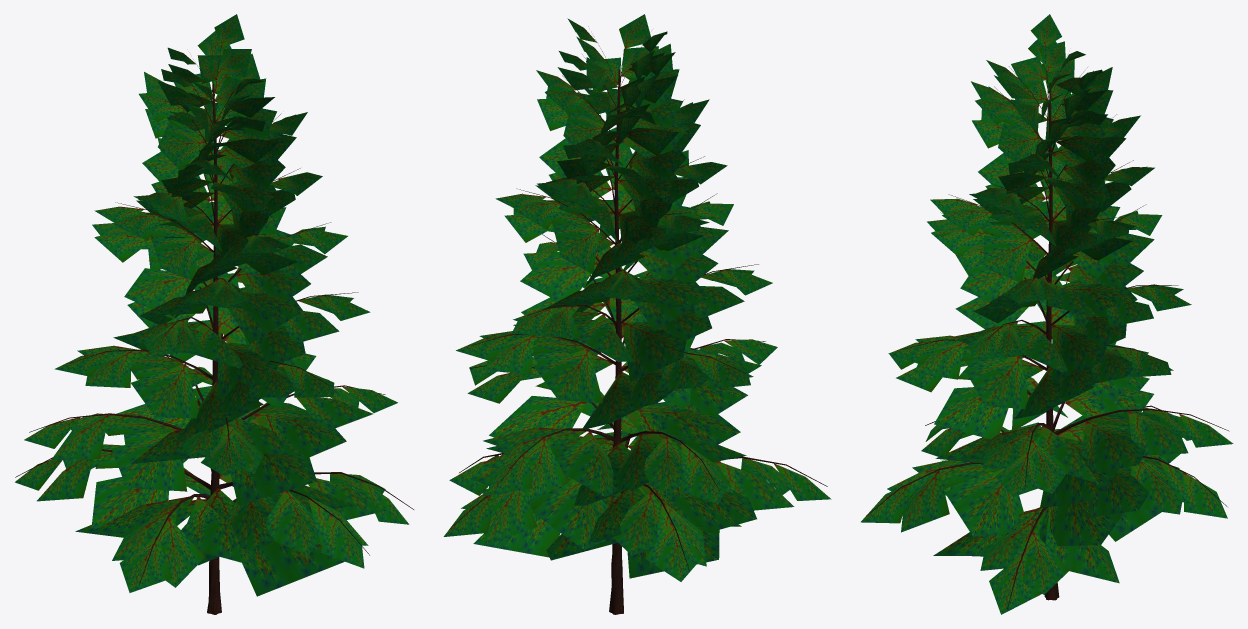
Rendered from fir.fbx.
3 renders of one model, left to right at view 1: azimuth 30°, elevation 25°; view 2: azimuth 150°, elevation 25°; view 3: azimuth 270°, elevation 25°, orthographic. The views are drawn at different scales.
Visible parts, largest first — view 1: Tree_1, Tree_0; view 2: Tree_1, Tree_0; view 3: Tree_1, Tree_0.
Boxes of the visible parts, x1,y1,x2,y2 form: Tree_1: [15, 14, 409, 596]; Tree_0: [15, 33, 413, 614]; Tree_1: [443, 14, 831, 581]; Tree_0: [449, 26, 827, 614]; Tree_1: [861, 14, 1233, 614]; Tree_0: [865, 29, 1229, 608].
Bounding box in the file's own units: 64.29 × 110 × 65.94.
